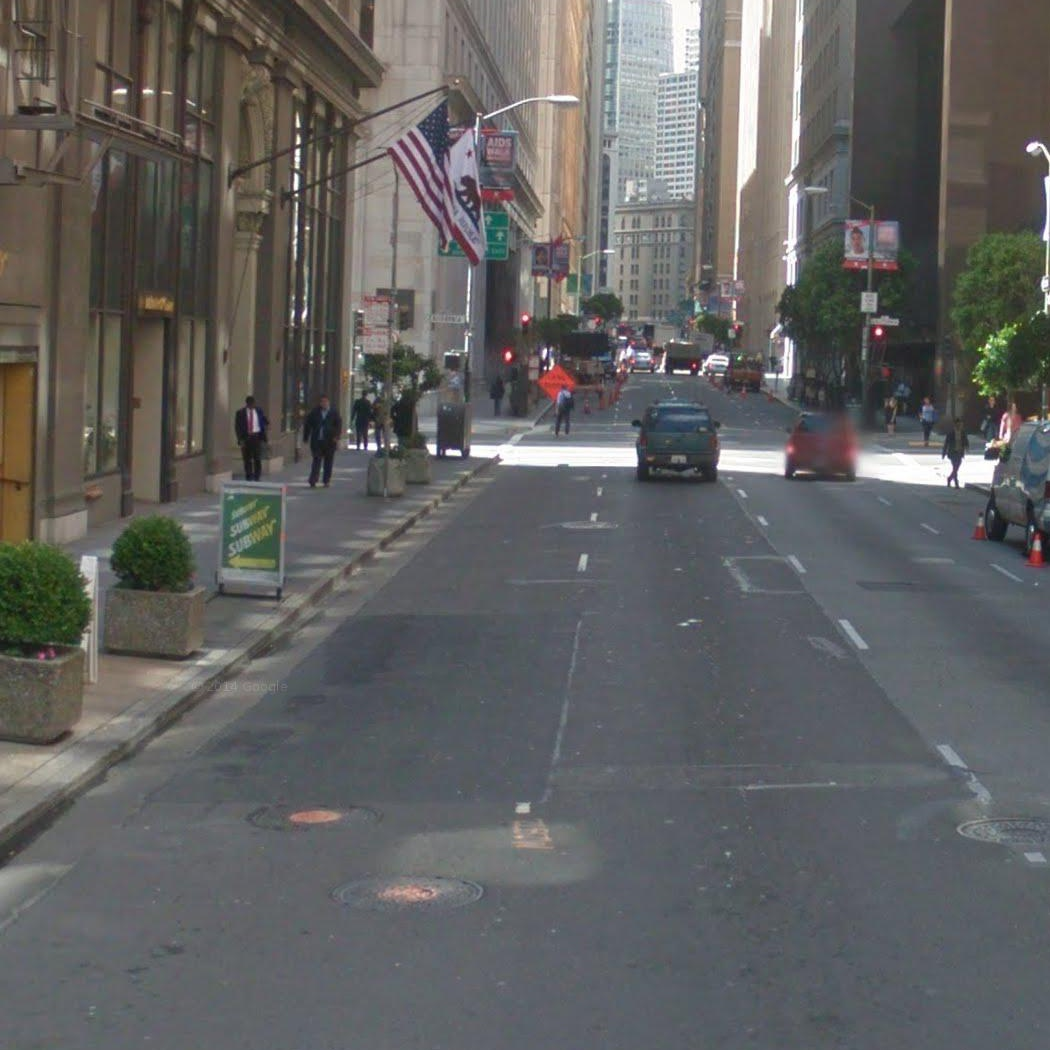No Parking: (360, 327, 390, 357)
